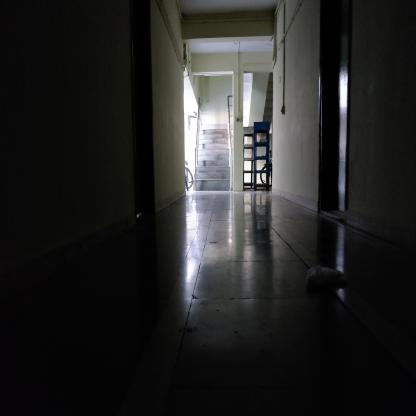stairs: (203, 130, 228, 194)
